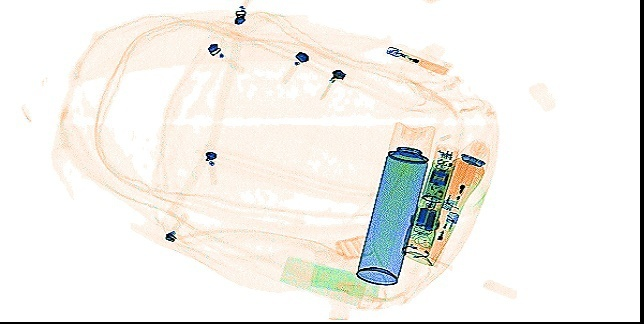lighter: (385, 43, 447, 75), (425, 210, 459, 266), (440, 153, 470, 212)
pressure: (354, 119, 435, 285), (400, 135, 490, 268)
